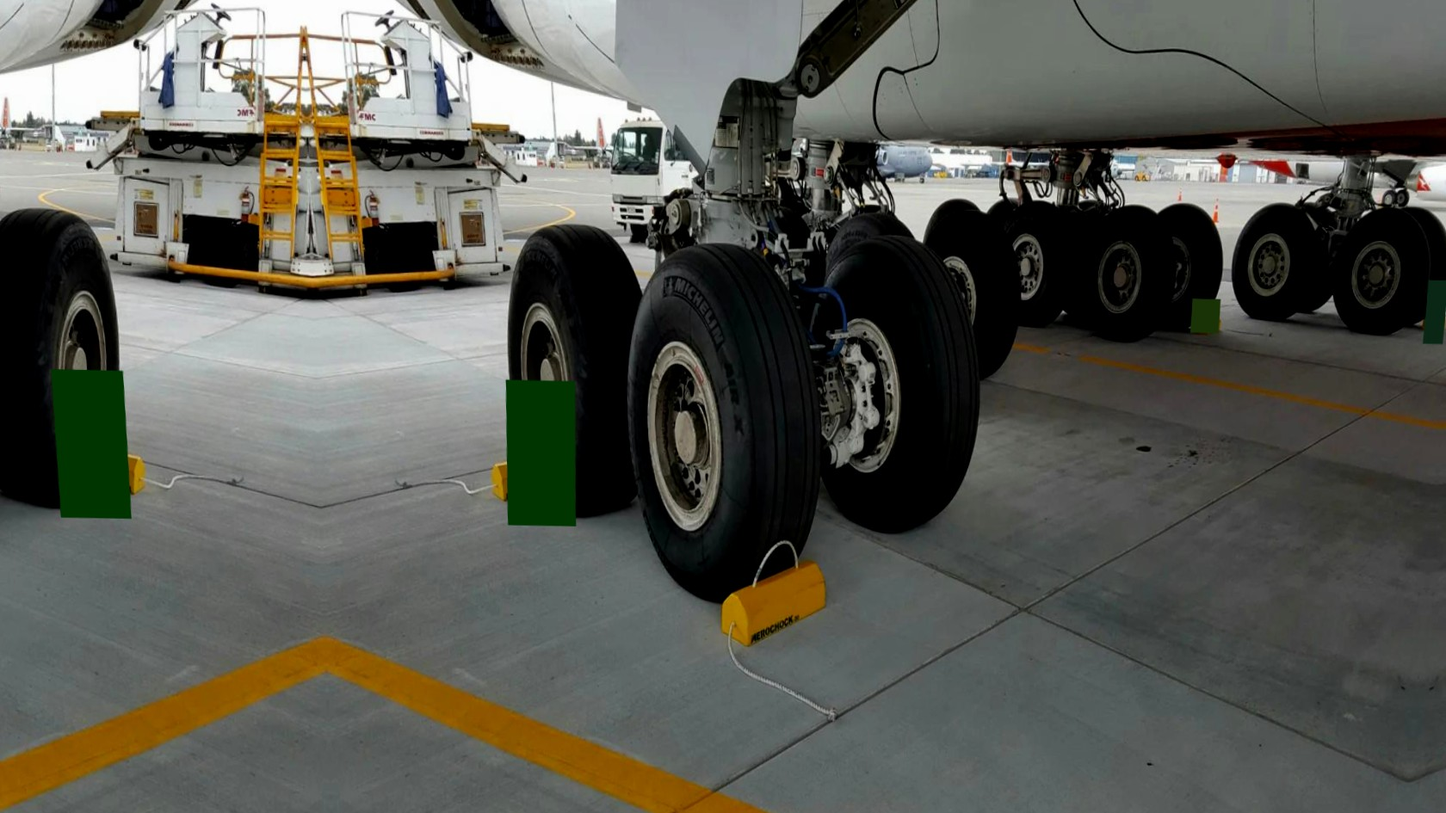chock: (713, 555, 830, 647), (48, 443, 152, 497), (485, 451, 583, 505), (1190, 314, 1227, 339), (1418, 310, 1446, 334)
wheel: (613, 233, 834, 599), (803, 221, 985, 537), (493, 219, 658, 518), (0, 203, 141, 509), (916, 196, 1025, 377), (1325, 204, 1440, 336), (1079, 201, 1178, 344), (1227, 199, 1327, 323), (1149, 199, 1230, 332), (999, 198, 1078, 328), (1390, 203, 1446, 322), (1053, 199, 1106, 318), (828, 206, 916, 269), (188, 220, 253, 290), (370, 225, 433, 295), (924, 196, 986, 244)
